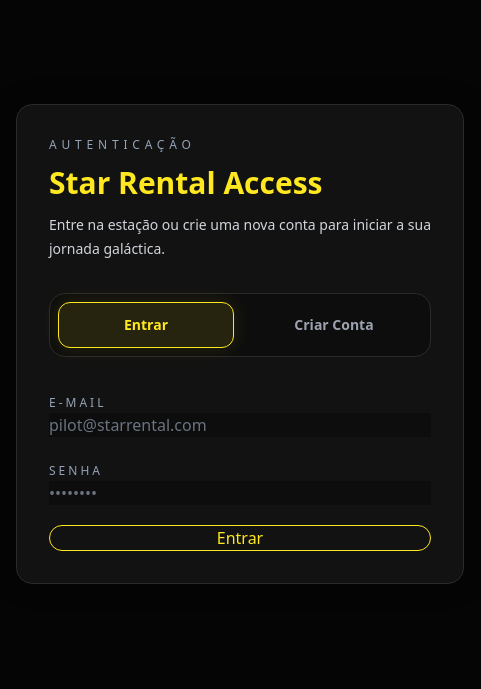
Test: Login › Validation › should show error when name is empty on register
Click the button "Criar Conta": [334, 325] box [246,302,422,348]
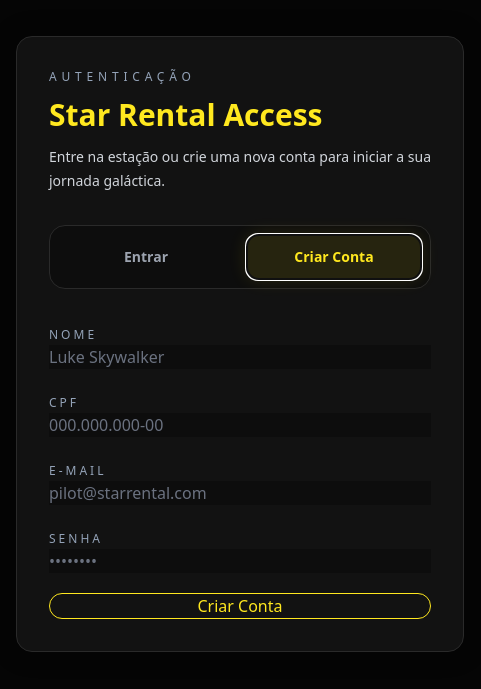
In the field labelled "E-mail": [240, 493] box [49,481,431,505], type "pilot@test.com"
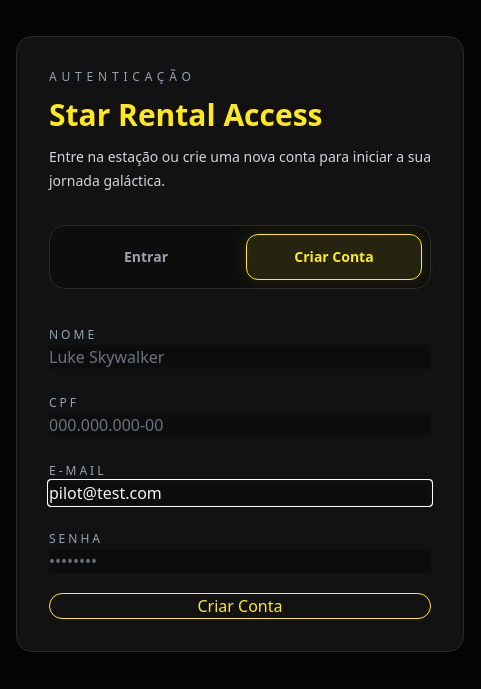
In the password field labelled "Senha": [240, 561] box [49,549,431,573], type "senha123"
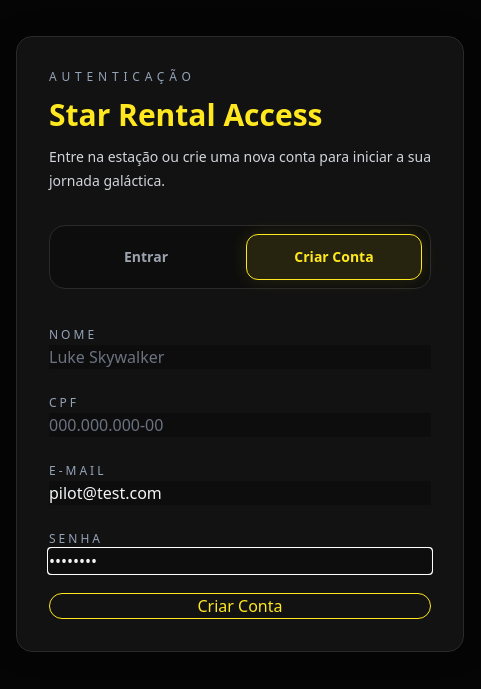
Click the submit button: [240, 606] box [49,593,431,619]
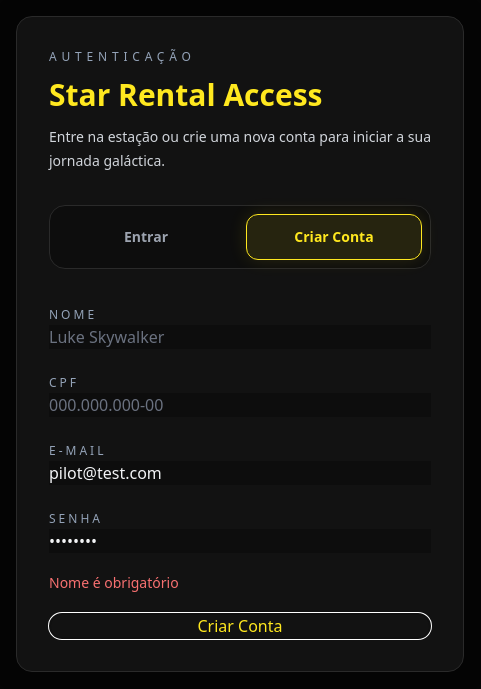
Check: the text "Nome é obrigatório" is shown, box [49,573,179,592]
